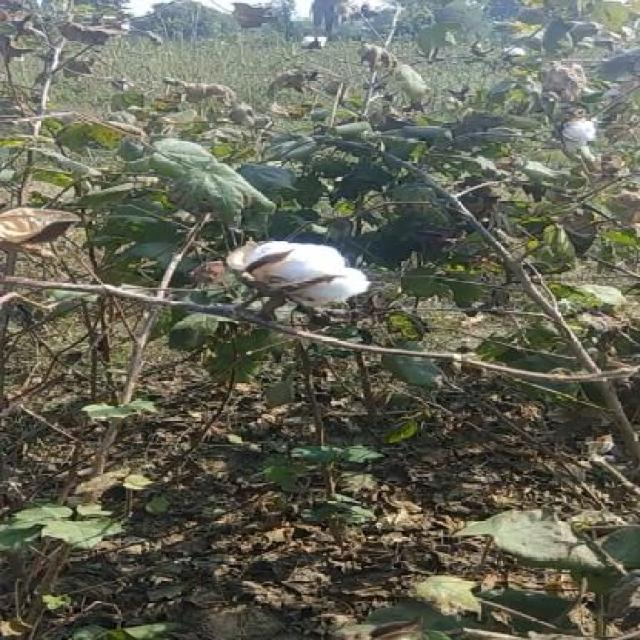cotton_ready: (222, 225, 382, 337)
